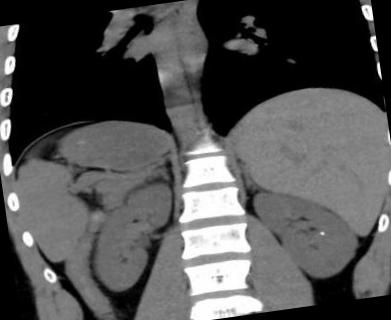Tas_Var: (318, 229, 328, 236)
